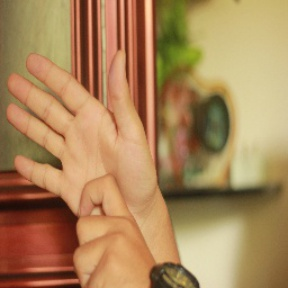R: (5, 50, 158, 283)
